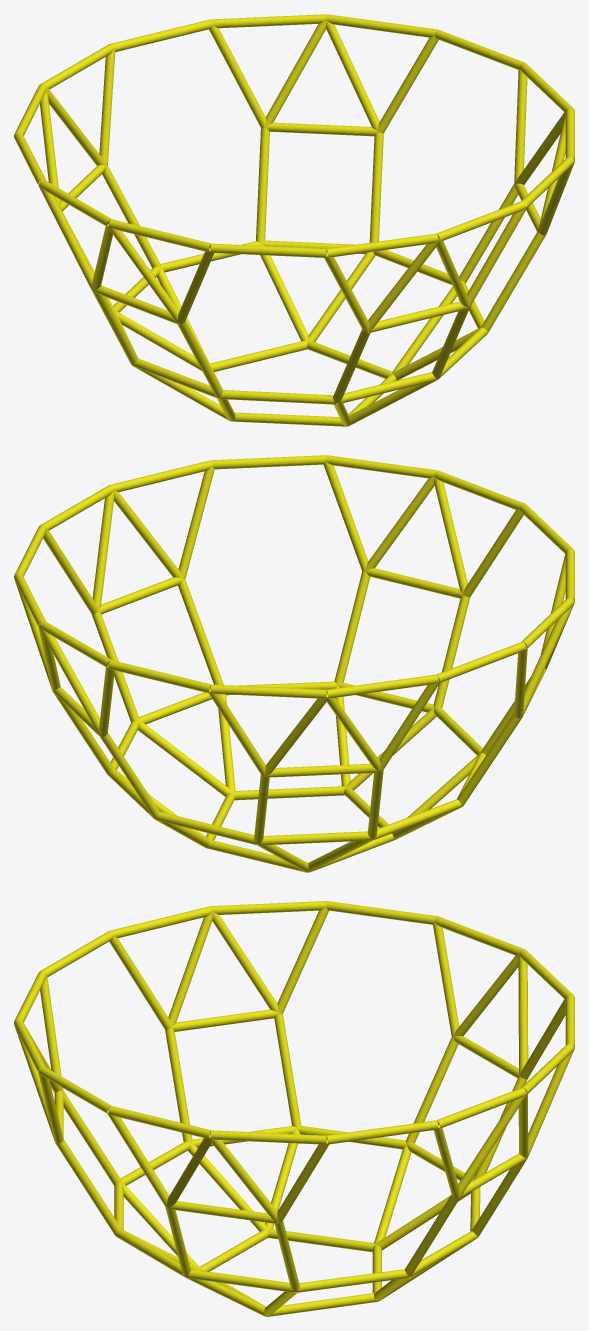
Rendered from trinexus3_1c.glb.
3 views of the same model, one above another, from view 1: azimuth 30°, elevation 25°; view 2: azimuth 150°, elevation 25°; view 3: azimuth 270°, elevation 25° (orthographic).
Visible parts, largest first — view 1: Mesh_161; view 2: Mesh_161; view 3: Mesh_161.
Part boxes in pixels (left/top/right/bottom): Mesh_161: left=14, top=14, right=574, bottom=426; Mesh_161: left=14, top=455, right=574, bottom=872; Mesh_161: left=14, top=901, right=574, bottom=1316.
Size of the model in its own units: 7.29 by 3.68 by 7.25.
